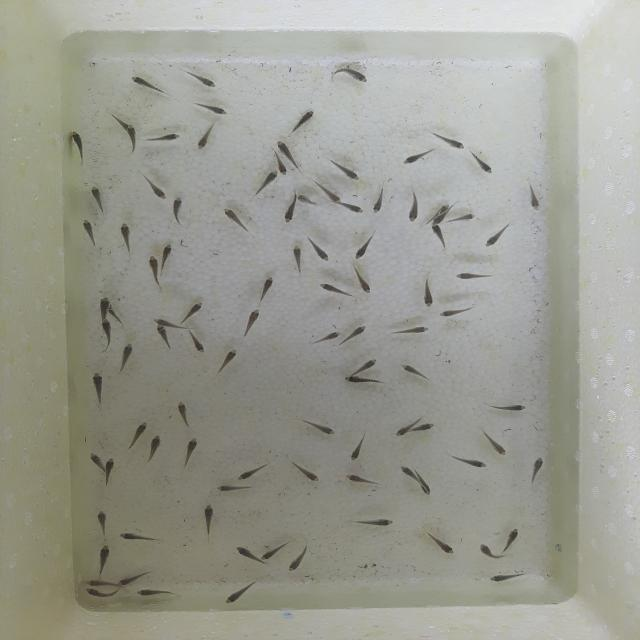fingerling: (129, 73, 177, 101), (325, 63, 373, 88), (219, 204, 256, 236), (235, 306, 267, 342), (283, 455, 324, 483), (413, 531, 454, 559), (294, 413, 339, 438), (174, 65, 220, 89), (178, 434, 206, 472), (342, 514, 402, 531), (521, 453, 550, 488), (221, 579, 260, 605), (213, 346, 243, 379), (481, 220, 516, 248), (349, 260, 376, 296), (287, 108, 319, 138), (68, 129, 95, 164), (480, 427, 512, 456), (140, 168, 168, 201), (486, 566, 530, 587), (328, 156, 362, 183), (143, 128, 188, 148), (287, 544, 316, 575), (144, 431, 167, 470), (317, 277, 354, 301), (195, 118, 221, 152), (114, 218, 136, 258), (416, 273, 441, 308), (398, 361, 436, 384), (77, 217, 103, 250), (284, 240, 306, 279), (169, 193, 192, 230), (185, 98, 232, 116), (252, 169, 280, 199), (260, 536, 291, 563), (388, 322, 432, 341), (84, 183, 110, 215), (252, 272, 278, 304), (447, 269, 506, 283), (173, 396, 197, 430), (115, 530, 169, 545), (352, 229, 378, 260), (481, 398, 531, 414), (347, 428, 368, 466), (126, 420, 149, 454), (433, 128, 468, 150), (308, 326, 343, 348), (445, 453, 490, 470), (235, 461, 273, 481), (470, 150, 498, 177), (303, 235, 331, 261), (179, 298, 207, 324), (343, 472, 388, 488), (212, 481, 259, 496), (116, 340, 138, 372), (469, 539, 501, 561), (96, 540, 114, 578), (92, 508, 114, 539), (436, 304, 478, 320), (89, 368, 106, 407), (399, 148, 432, 168), (430, 222, 450, 253), (187, 326, 209, 354), (338, 374, 389, 386), (117, 569, 153, 586), (231, 543, 260, 564), (155, 325, 175, 355), (501, 526, 523, 553), (369, 186, 388, 217), (341, 324, 370, 344), (406, 188, 422, 224), (99, 317, 114, 355), (280, 198, 300, 226), (202, 502, 216, 542), (318, 180, 342, 203), (352, 355, 381, 374), (133, 587, 183, 598), (103, 454, 118, 490), (296, 191, 324, 210), (80, 586, 124, 598), (526, 184, 544, 212), (450, 210, 478, 226), (148, 255, 160, 292), (339, 201, 366, 216), (126, 124, 138, 154), (159, 242, 177, 262), (277, 137, 294, 158), (80, 578, 113, 588), (87, 448, 103, 468), (95, 295, 114, 311), (393, 424, 414, 438), (398, 464, 416, 480), (418, 480, 433, 498), (419, 420, 437, 432), (277, 163, 291, 176), (151, 316, 172, 324)
